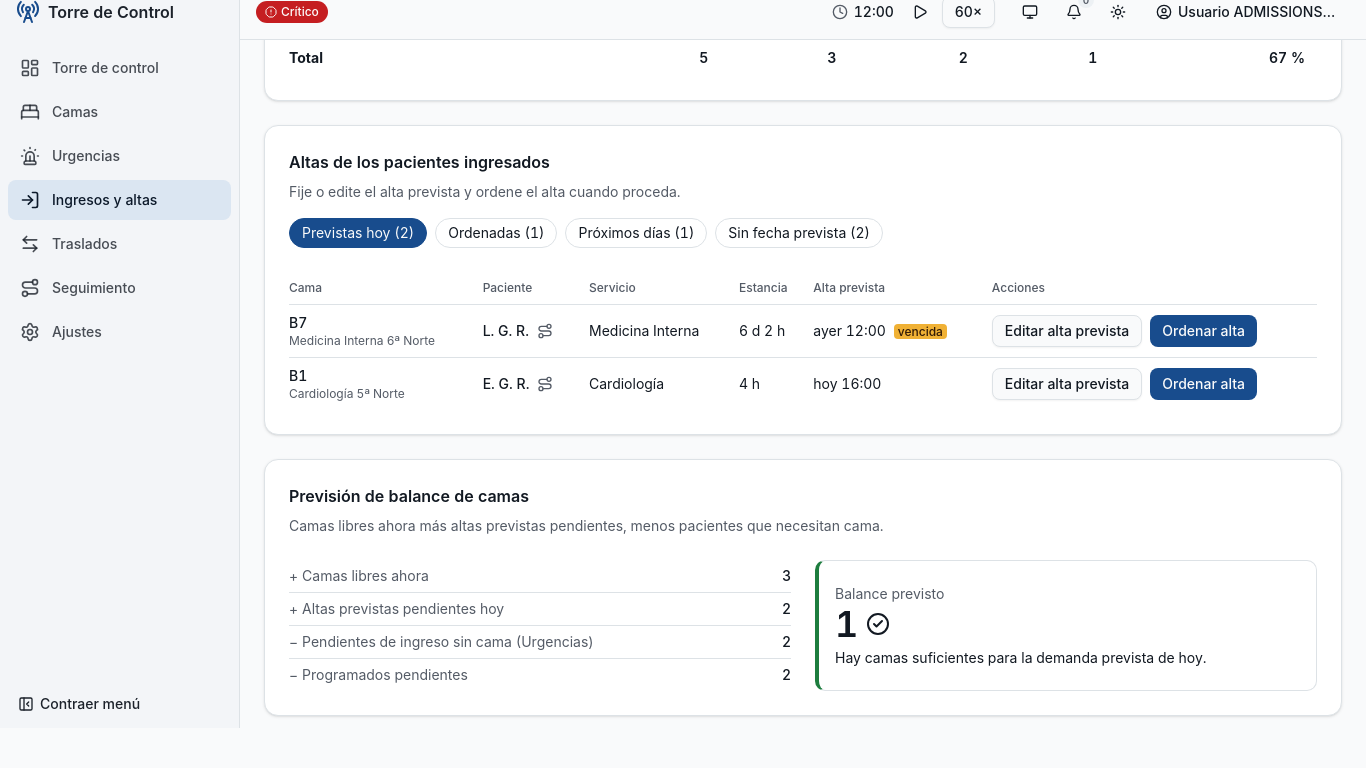
Test: discharge worklist (head) › orders a discharge after confirming
This screenshot has width=1366, height=768.
(page scrolled)
Click the button "Ordenar alta" in the row of "B1" at (1204, 384), box [1150,368,1257,400]
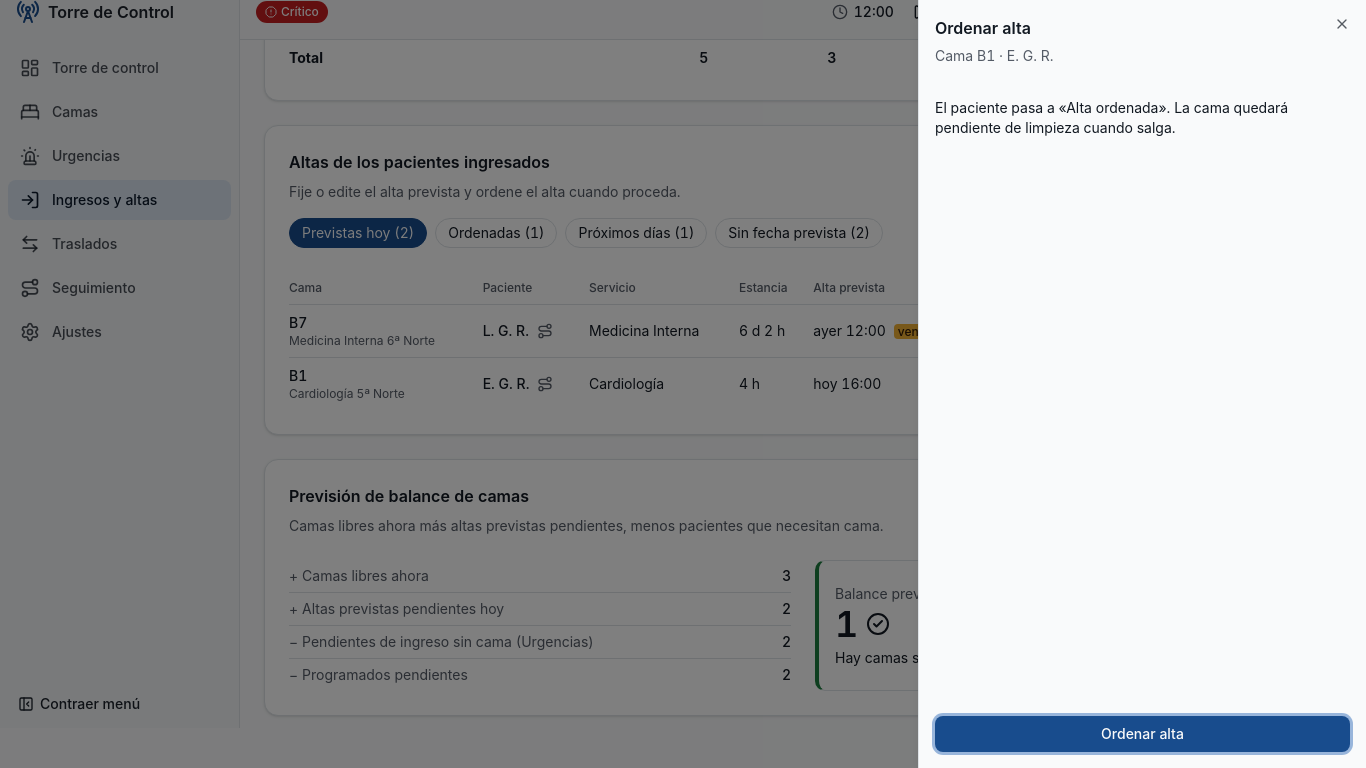
Check: the text "El paciente pasa a «Alta ordenada». La cama quedará pendiente de limpieza cuando salga." is shown, box [935,99,1288,136]
Click the button "Ordenar alta" at (1142, 734), box [935,716,1350,752]
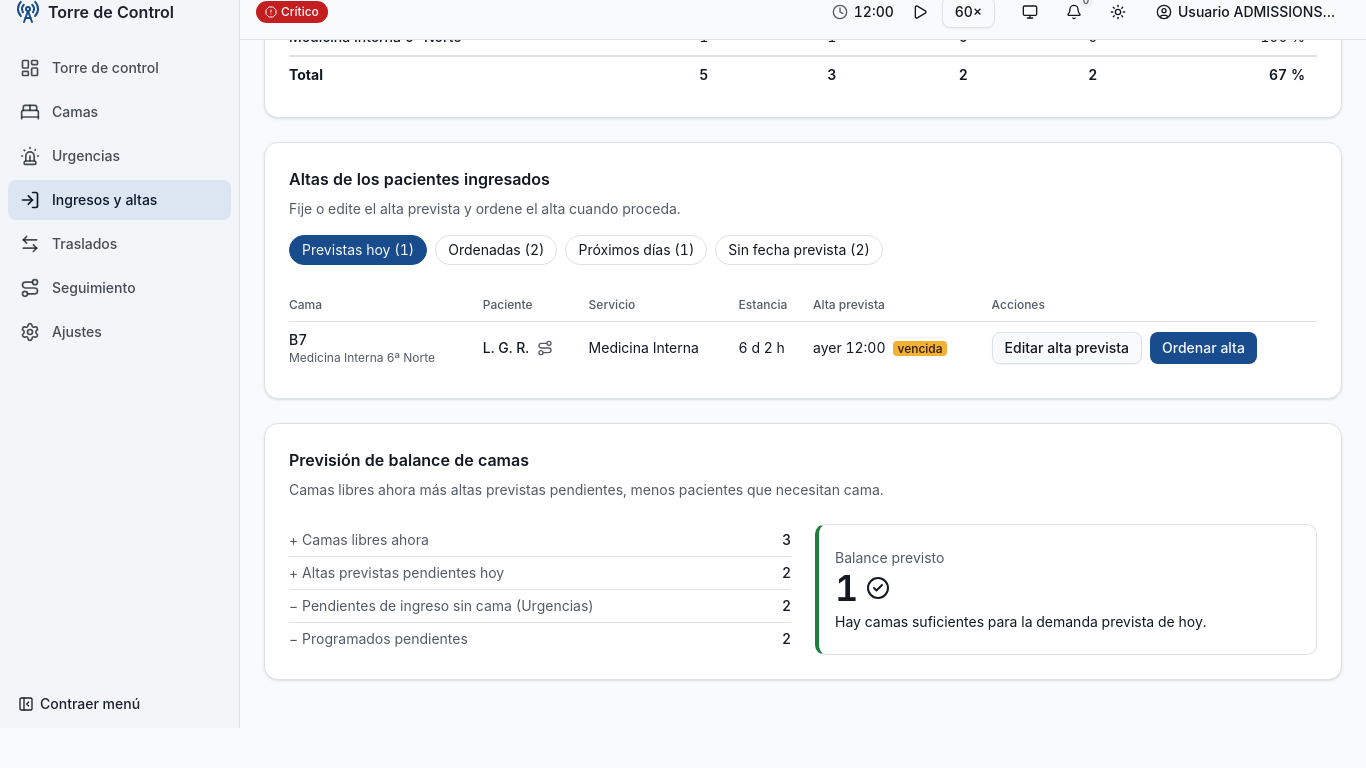
Check: the dialog is gone
